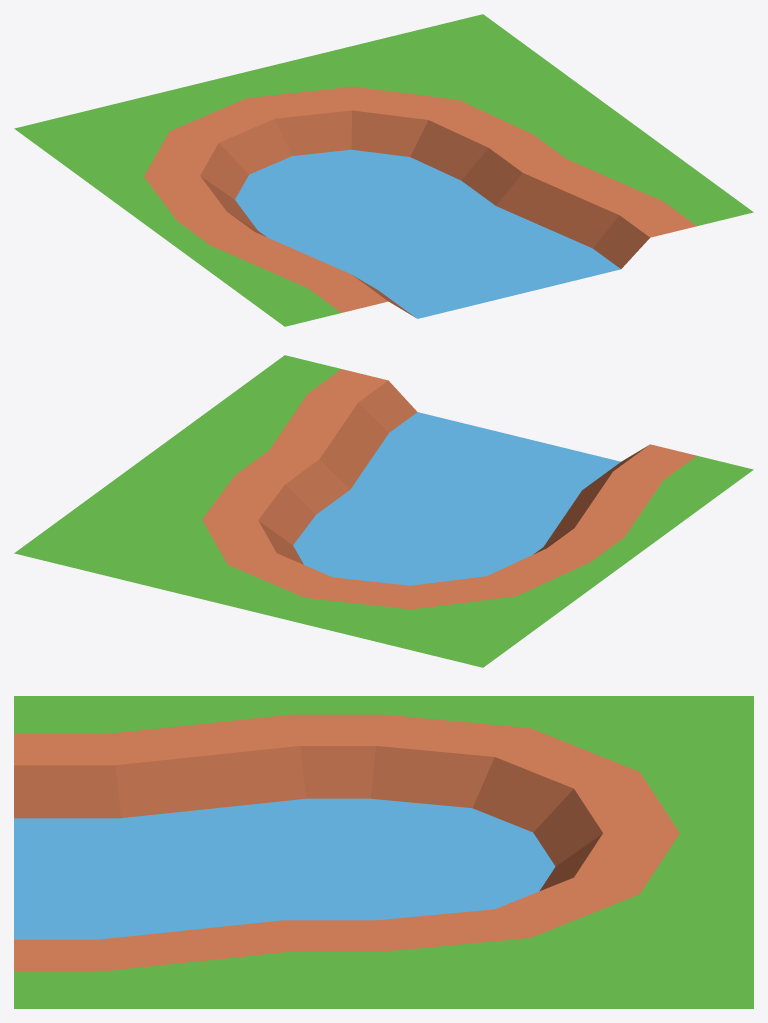
File: ground_riverEndClosed.glb
3 renders of one model, top to bottom at view 1: azimuth 30°, elevation 25°; view 2: azimuth 150°, elevation 25°; view 3: azimuth 270°, elevation 25°, orthographic. The views are drawn at different scales.
Parts seen in each view (by area): view 1: ground_riverEndClosed; view 2: ground_riverEndClosed; view 3: ground_riverEndClosed.
Boxes of the visible parts, x1=… form: ground_riverEndClosed: x1=14, y1=14, x2=753, y2=326; ground_riverEndClosed: x1=14, y1=355, x2=753, y2=667; ground_riverEndClosed: x1=14, y1=696, x2=753, y2=1008.
Bounding box in the file's own units: 1 × 0.05 × 1.
